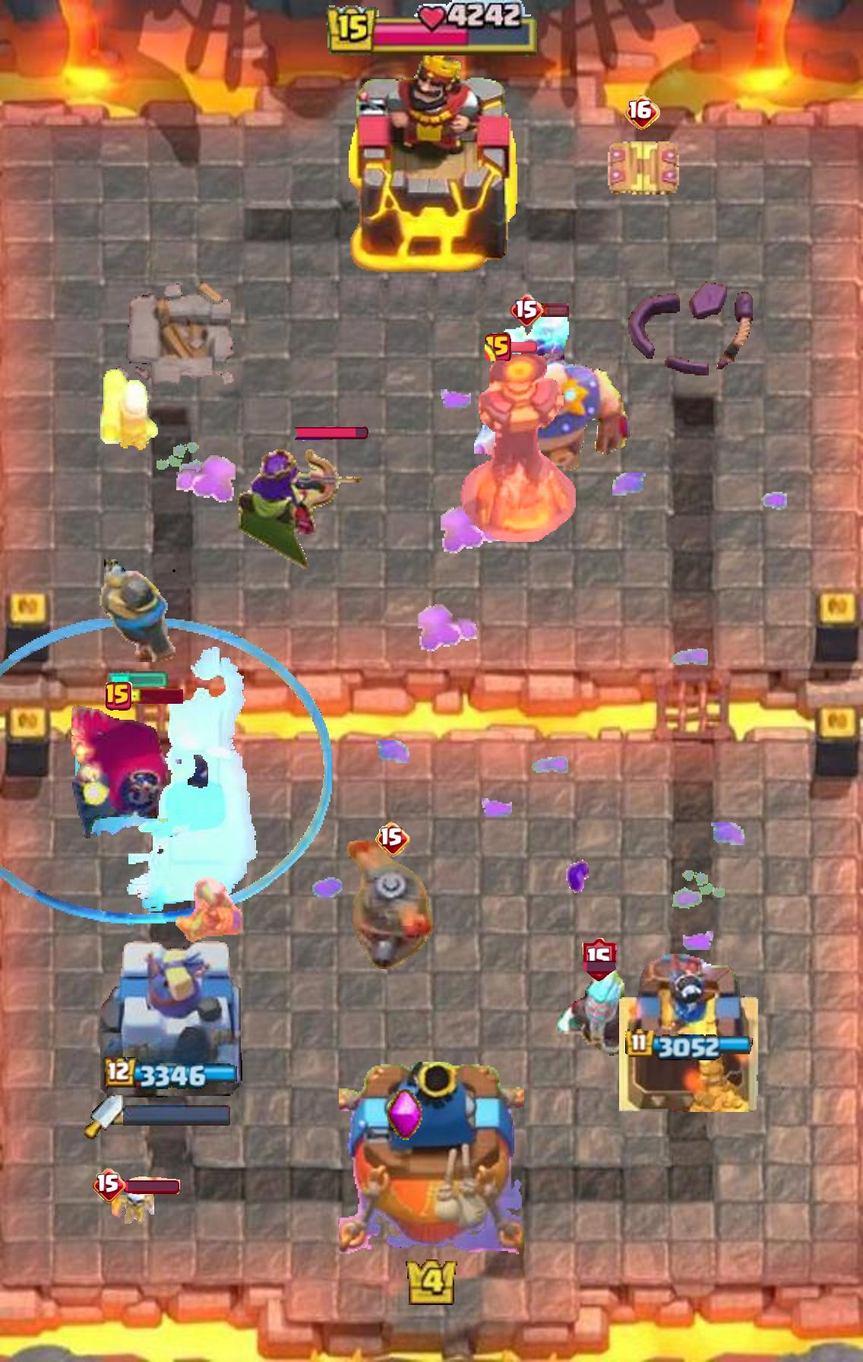bar: (294, 426, 368, 440), (123, 1177, 180, 1195), (128, 689, 183, 704), (541, 302, 570, 318), (508, 341, 537, 353)
bar-level: (582, 938, 617, 982), (625, 95, 661, 130), (510, 293, 545, 328), (375, 822, 410, 857), (92, 1168, 126, 1203), (485, 332, 512, 361), (105, 682, 132, 711)
